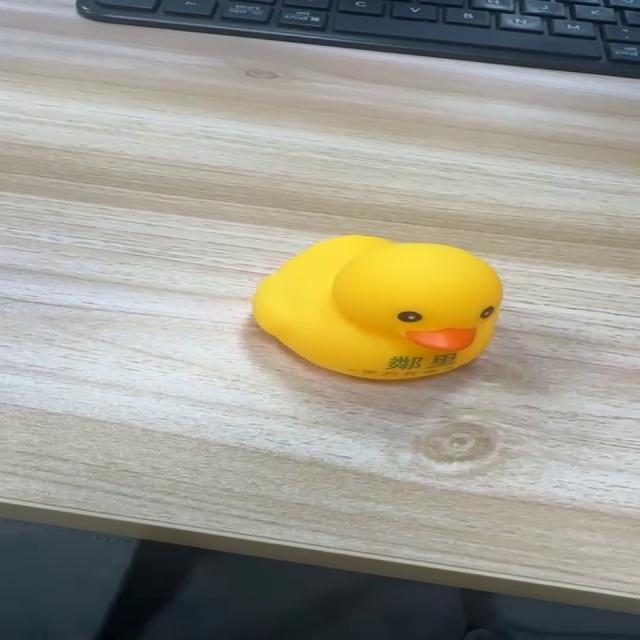yellow_duck: (249, 232, 504, 380)
